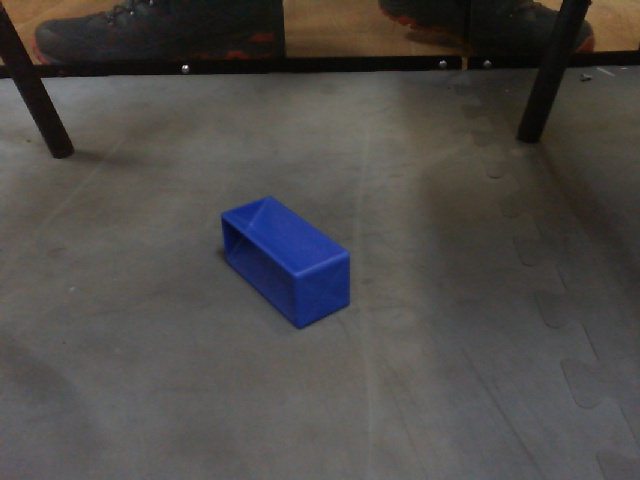BlueSample: (216, 191, 355, 333)
